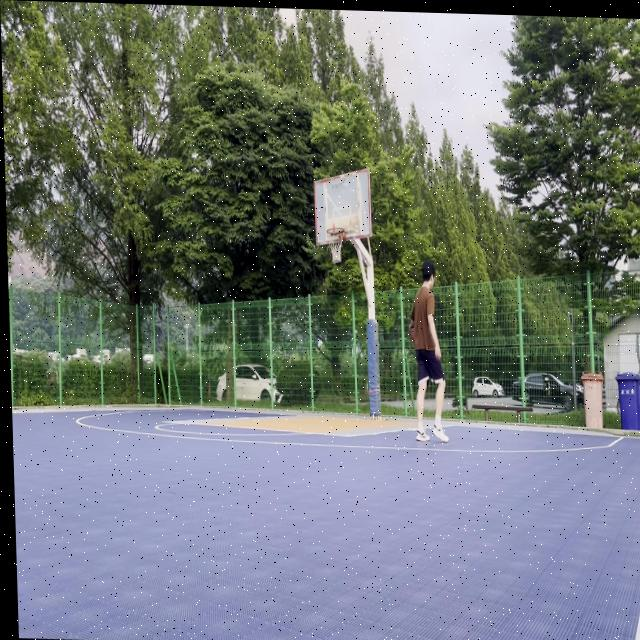basketball: (410, 326, 415, 342)
hoop: (326, 227, 346, 266)
